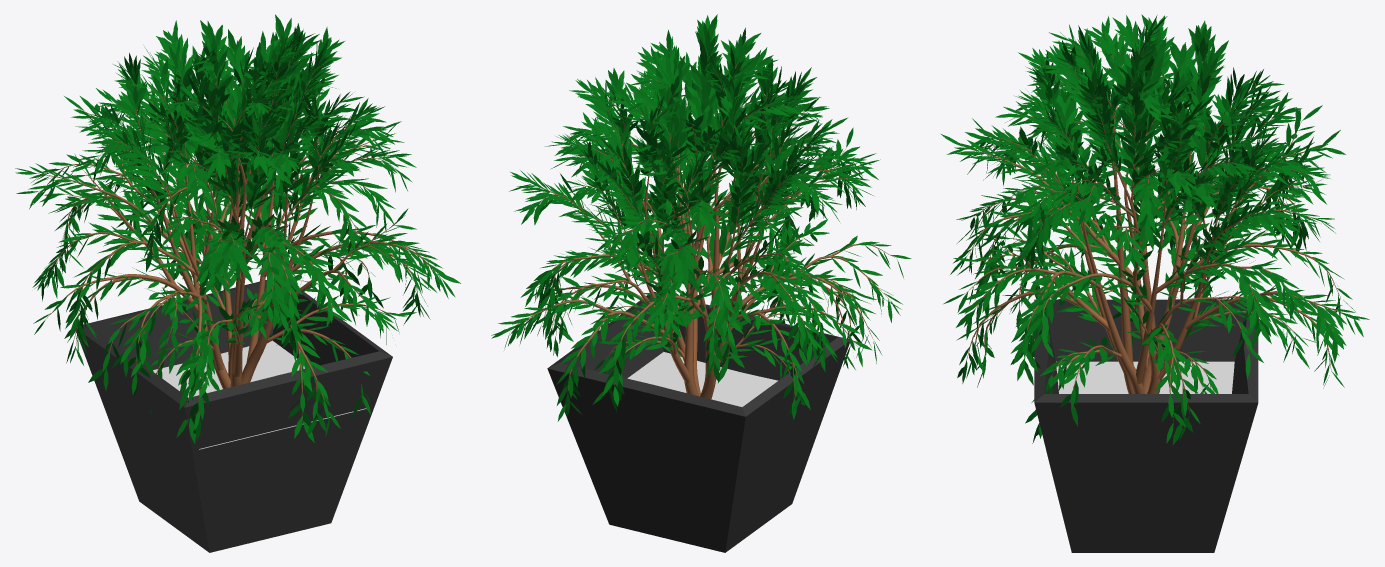
File: plant.fbx
3 views of the same model, side by side, from view 1: azimuth 30°, elevation 25°; view 2: azimuth 150°, elevation 25°; view 3: azimuth 270°, elevation 25° (orthographic). The views are drawn at different scales.
Parts seen in each view (by area): view 1: leaves, Cube, tree, Plane; view 2: leaves, Cube, tree, Plane; view 3: leaves, Cube, tree, Plane.
Part boxes in pixels (left/top/right/bottom): leaves: left=15, top=14, right=460, bottom=443; Cube: left=76, top=280, right=392, bottom=552; tree: left=37, top=49, right=441, bottom=419; Plane: left=153, top=340, right=366, bottom=449; leaves: left=491, top=14, right=911, bottom=421; Cube: left=547, top=291, right=849, bottom=552; tree: left=511, top=51, right=896, bottom=399; Plane: left=627, top=352, right=777, bottom=406; leaves: left=941, top=14, right=1369, bottom=445; Cube: left=1034, top=299, right=1258, bottom=552; tree: left=964, top=37, right=1341, bottom=428; Plane: left=1044, top=361, right=1234, bottom=443.
Bounding box in the file's own units: 578 × 782 × 605.
